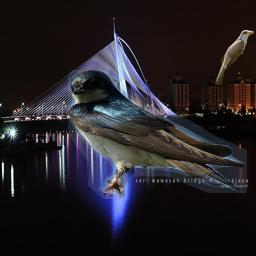Cuckoo: (214, 30, 254, 85)
Swallow: (68, 70, 247, 199)
